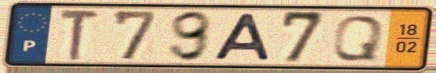7: (279, 8, 327, 66), (111, 9, 161, 62)
9: (164, 9, 216, 63)
A: (211, 12, 274, 62)
Q: (329, 13, 387, 63)
T: (58, 8, 102, 62)
